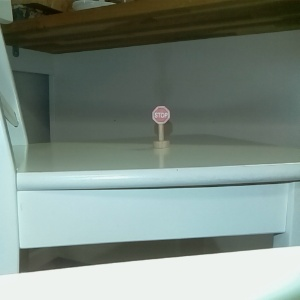stop sign: (150, 103, 171, 150)
